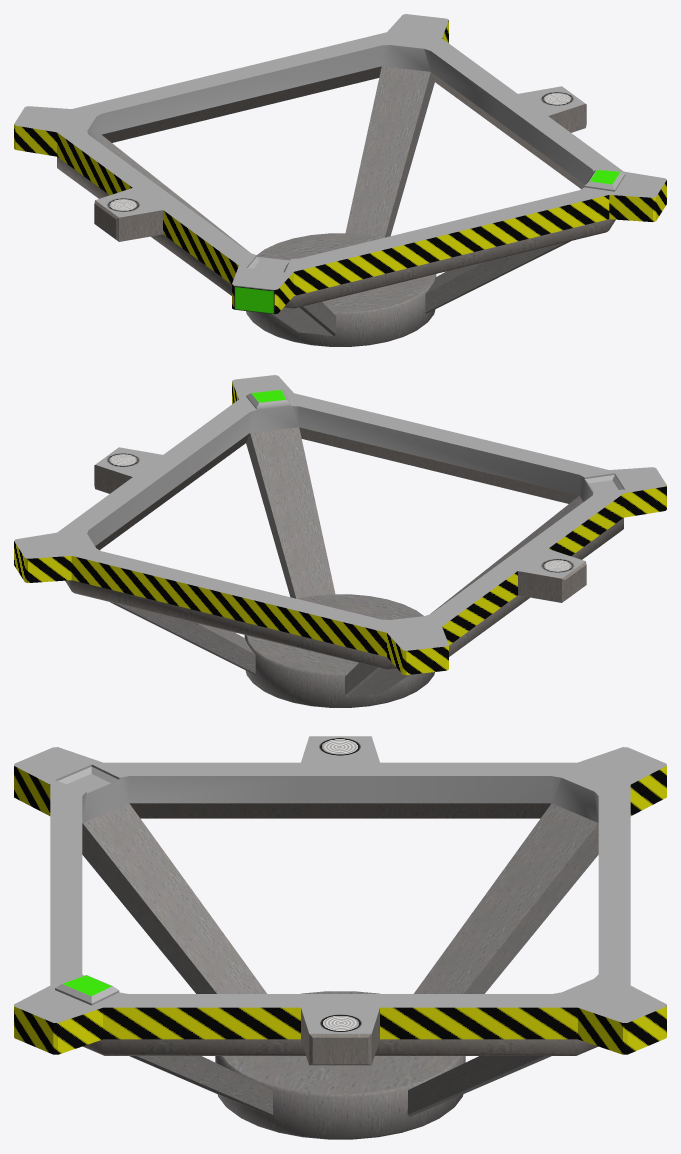
The model's file is asteroid-hatch-dock-adapter.fbx.
3 views of the same model, one above another, from view 1: azimuth 30°, elevation 25°; view 2: azimuth 150°, elevation 25°; view 3: azimuth 270°, elevation 25° (orthographic). The views are drawn at different scales.
Visible parts, largest first — view 1: asteroid-hatch-port, rail_003, s2-plate, rail_002, rail, rail_001; view 2: asteroid-hatch-port, rail_002, s2-plate, rail_003, rail_001, rail; view 3: asteroid-hatch-port, s2-plate, rail, rail_001, rail_003, rail_002.
Boxes of the visible parts, left/top/right/bottom form: asteroid-hatch-port: left=14, top=14, right=666, bottom=314; rail_003: left=345, top=66, right=434, bottom=237; s2-plate: left=246, top=233, right=436, bottom=346; rail_002: left=425, top=241, right=570, bottom=313; rail: left=272, top=302, right=335, bottom=336; rail_001: left=97, top=135, right=250, bottom=252; asteroid-hatch-port: left=14, top=375, right=666, bottom=675; rail_002: left=246, top=427, right=335, bottom=598; s2-plate: left=244, top=594, right=434, bottom=707; rail_003: left=110, top=602, right=255, bottom=674; rail_001: left=345, top=663, right=408, bottom=697; rail: left=430, top=496, right=583, bottom=613; asteroid-hatch-port: left=14, top=736, right=666, bottom=1065; s2-plate: left=215, top=991, right=465, bottom=1139; rail: left=82, top=803, right=266, bottom=993; rail_001: left=414, top=803, right=598, bottom=993; rail_003: left=407, top=1056, right=551, bottom=1116; rail_002: left=129, top=1056, right=273, bottom=1116.
Size of what is drawn, in the model's own units: 7.09 by 2.31 by 6.53.
2 materials, 2 textured.
